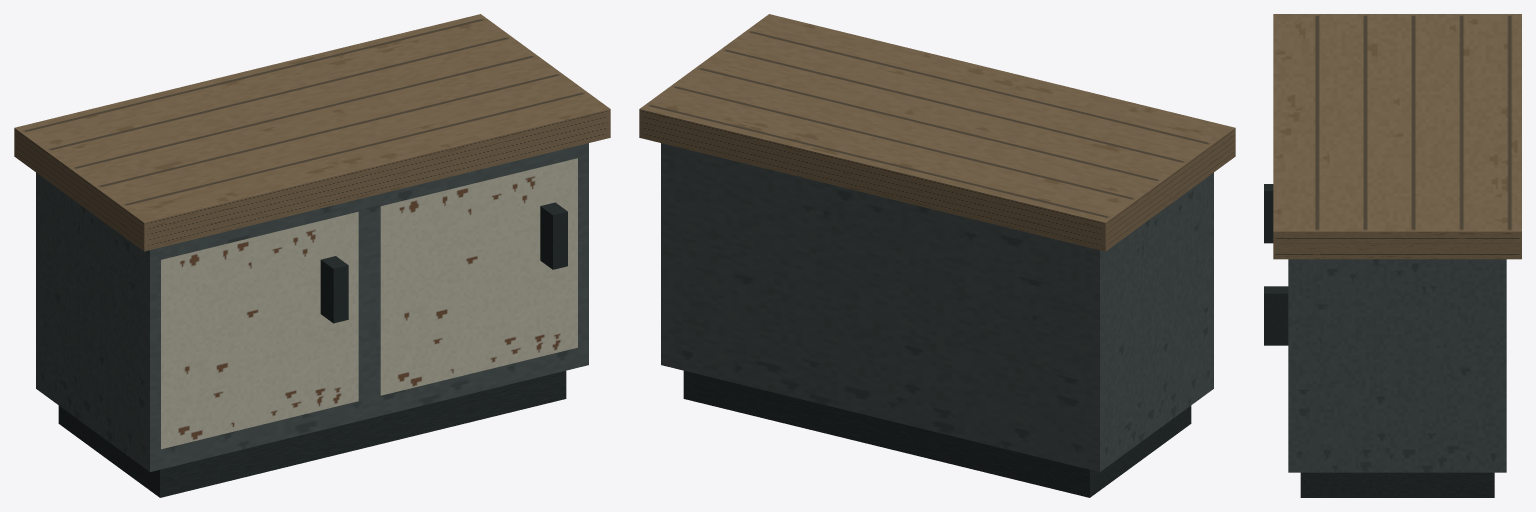
File: CabinCabinet.fbx
The picture shows the model from 3 angles, left to right: view 1: azimuth 30°, elevation 25°; view 2: azimuth 150°, elevation 25°; view 3: azimuth 270°, elevation 25°; orthographic projection. The views are drawn at different scales.
Visible parts, largest first — view 1: CabinCabinet; view 2: CabinCabinet; view 3: CabinCabinet.
Part boxes in pixels (x1=…): CabinCabinet: x1=14, y1=14, x2=610, y2=497; CabinCabinet: x1=639, y1=14, x2=1235, y2=497; CabinCabinet: x1=1264, y1=14, x2=1521, y2=497.
Size of the model in its own units: 170 by 102 by 85.
